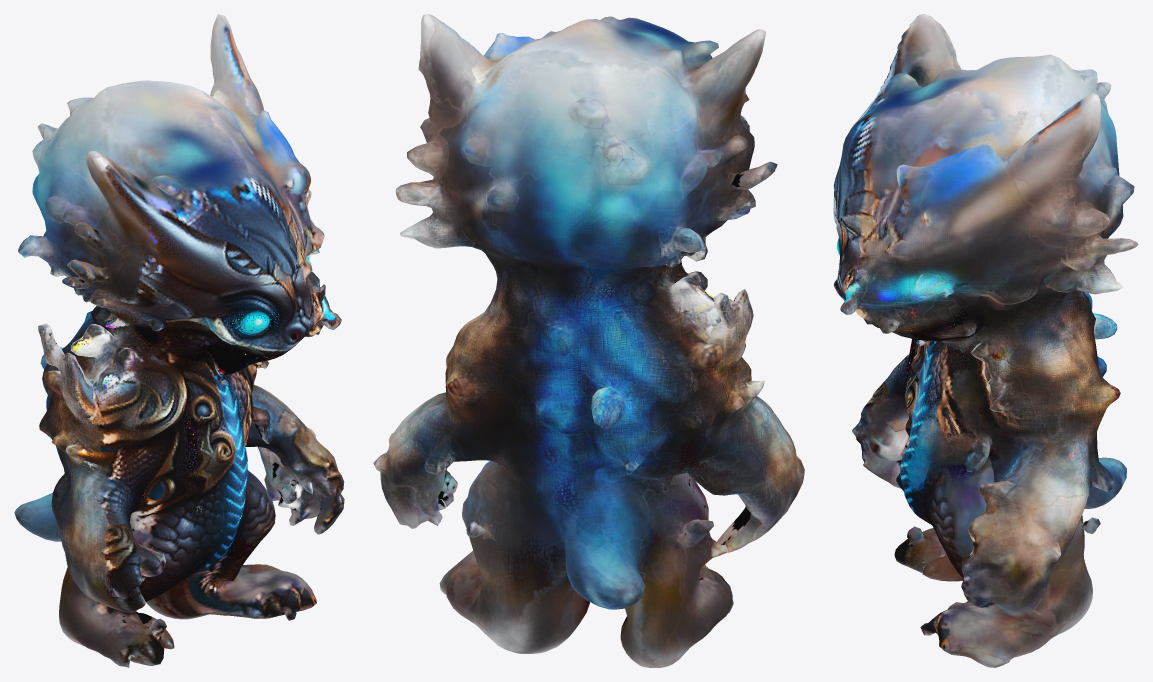
The model's file is chibi_dragon_with_blue_eyes___a_small_chibi-st.glb.
3 renders of one model, left to right at view 1: azimuth 30°, elevation 25°; view 2: azimuth 150°, elevation 25°; view 3: azimuth 270°, elevation 25°, orthographic. The views are drawn at different scales.
Parts seen in each view (by area): view 1: model.obj_1; view 2: model.obj_1; view 3: model.obj_1.
Boxes of the visible parts, bbox=[...] form: model.obj_1: bbox=[14, 14, 344, 667]; model.obj_1: bbox=[373, 14, 804, 667]; model.obj_1: bbox=[833, 14, 1138, 667].
Bounding box in the file's own units: 0.6212 × 1.11 × 0.5388.
Materials: 1 (1 with a texture image).
